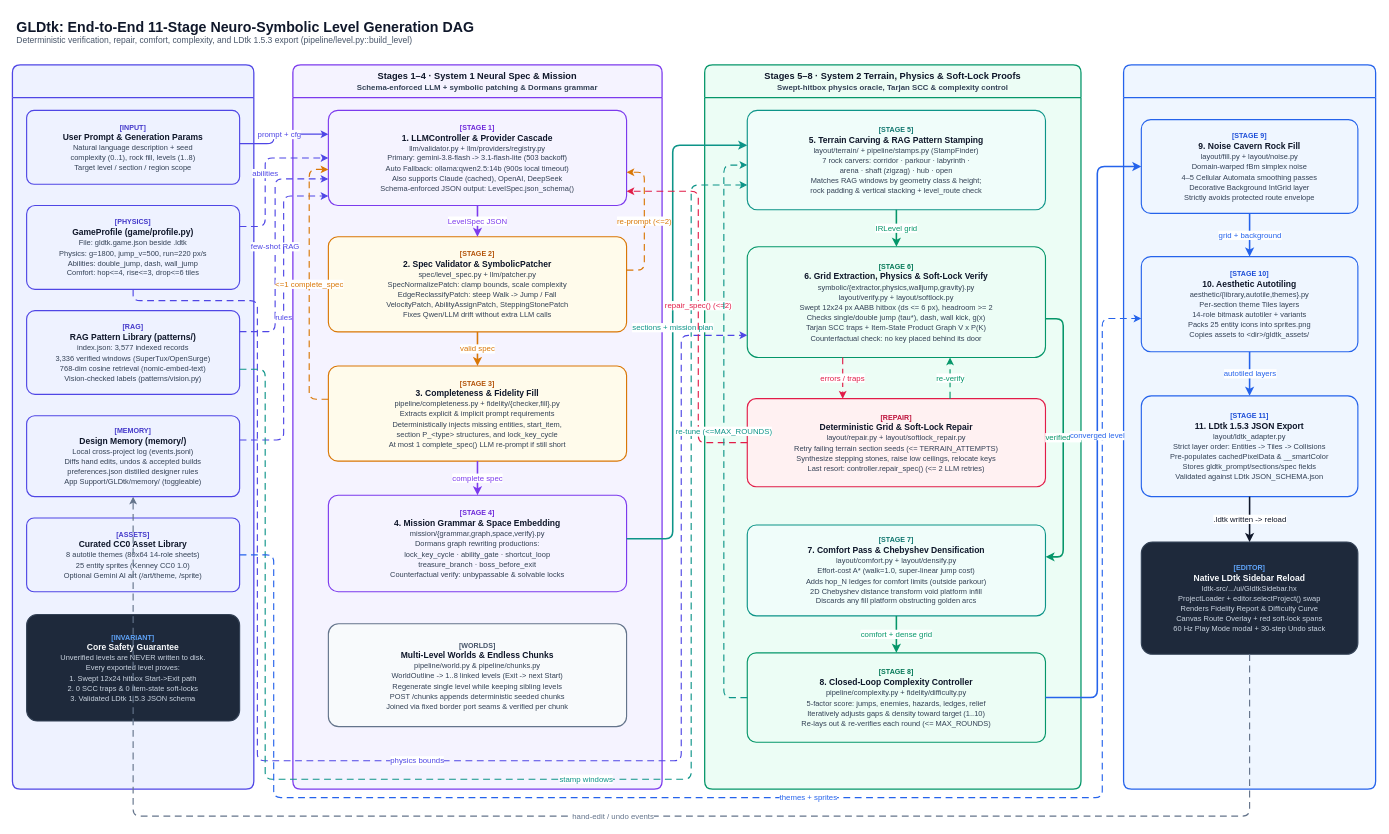
This 1389x834 diagram has some shape labels left out. The box of each missing label's shape, as (x1, y1, x2, y2) in pixels:
Inputs & Context Assembly User intent, physics profile, RAG & memory: (11, 64, 254, 789)
Stages 9–11 · Noise, Art & LDtk Export Schema-exact LDtk 1.5.3 JSON + sidebar: (1123, 64, 1376, 789)
